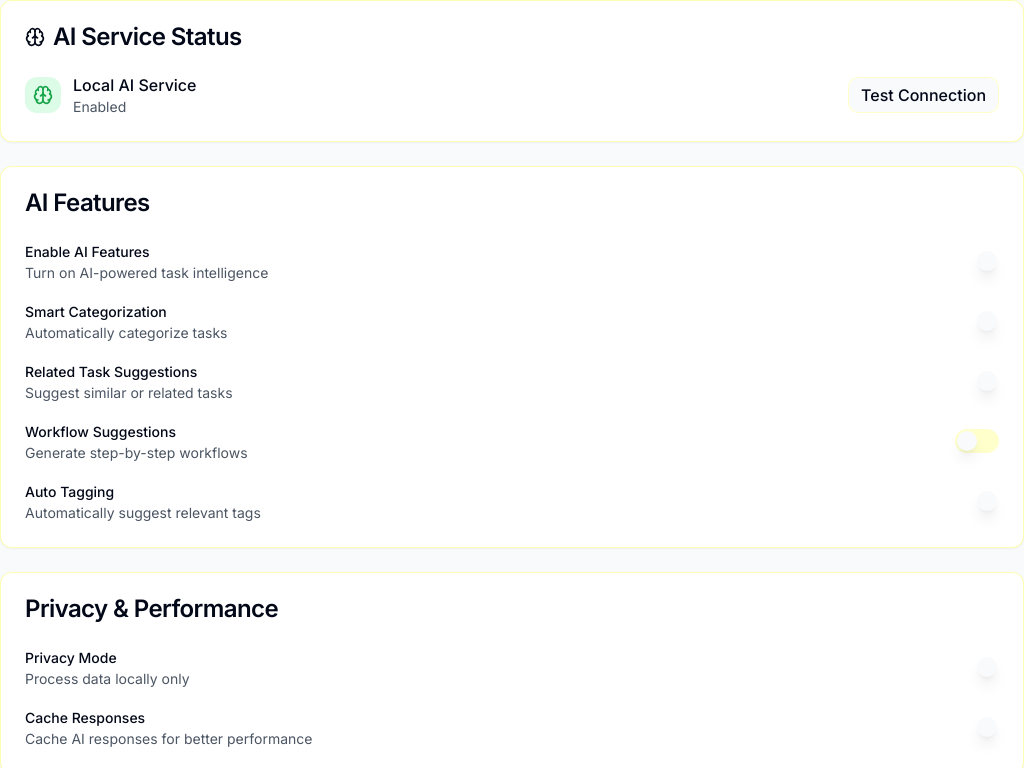
Test: AISettings › tests AI connection
Click the button with test id "test-ai-connection" at x=924, y=95, box [848,77,999,113]
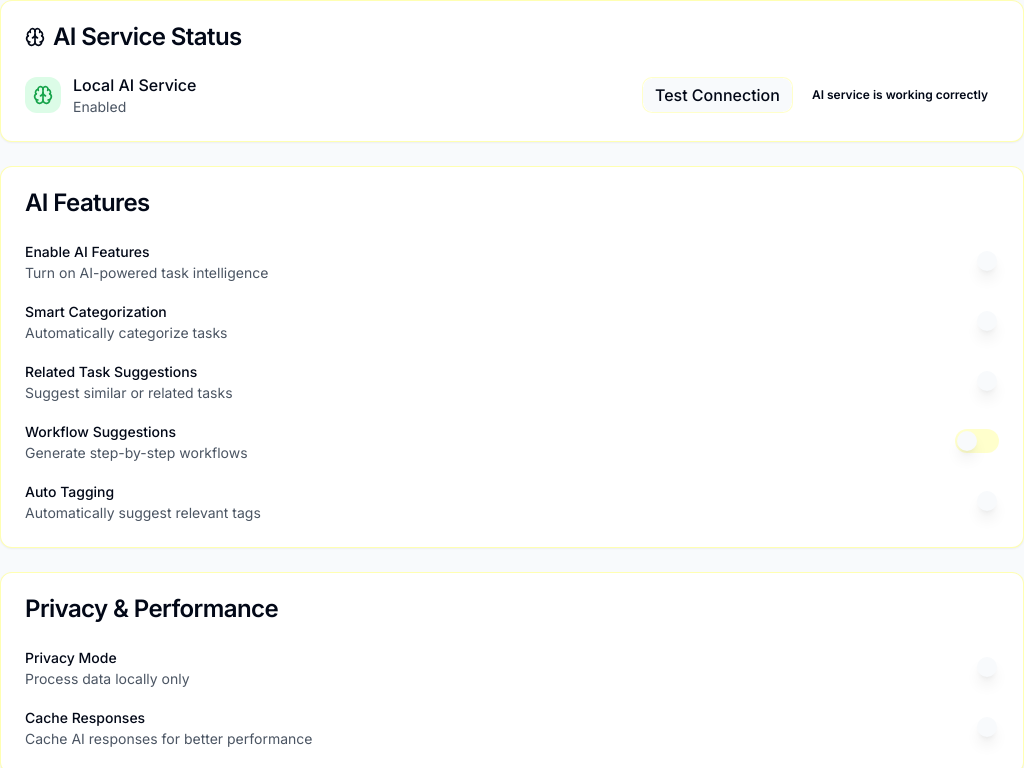
Check: the text "AI service is working correctly" is shown, box [801,84,999,106]
